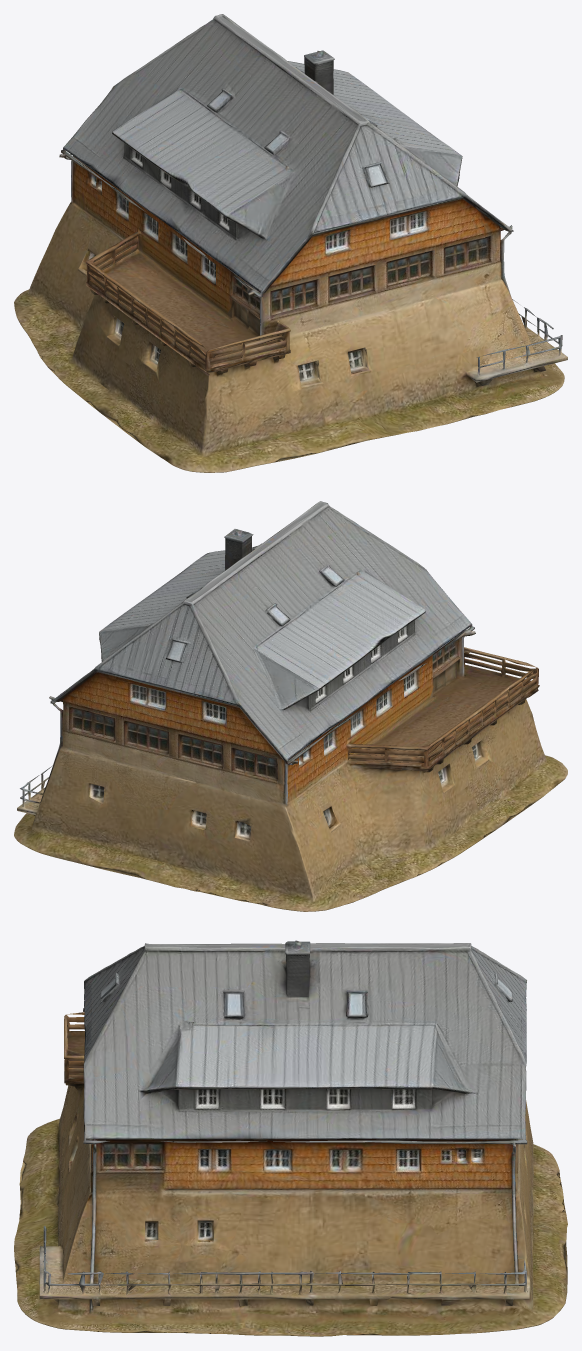
Rendered from hw_baude.glb.
3 views of the same model, one above another, from view 1: azimuth 30°, elevation 25°; view 2: azimuth 150°, elevation 25°; view 3: azimuth 270°, elevation 25° (orthographic). The views are drawn at different scales.
Parts seen in each view (by area): view 1: tripo_node_56336f97-c035-4d84-8ec9-c9f054f1ca3e; view 2: tripo_node_56336f97-c035-4d84-8ec9-c9f054f1ca3e; view 3: tripo_node_56336f97-c035-4d84-8ec9-c9f054f1ca3e.
Boxes of the visible parts, x1,y1,x2,y2 form: tripo_node_56336f97-c035-4d84-8ec9-c9f054f1ca3e: (14,14,567,472); tripo_node_56336f97-c035-4d84-8ec9-c9f054f1ca3e: (14,501,567,911); tripo_node_56336f97-c035-4d84-8ec9-c9f054f1ca3e: (14,940,567,1336).
Size of the model in its own units: 0.9349 by 0.6212 by 1.
Materials: 1 (1 with a texture image).
